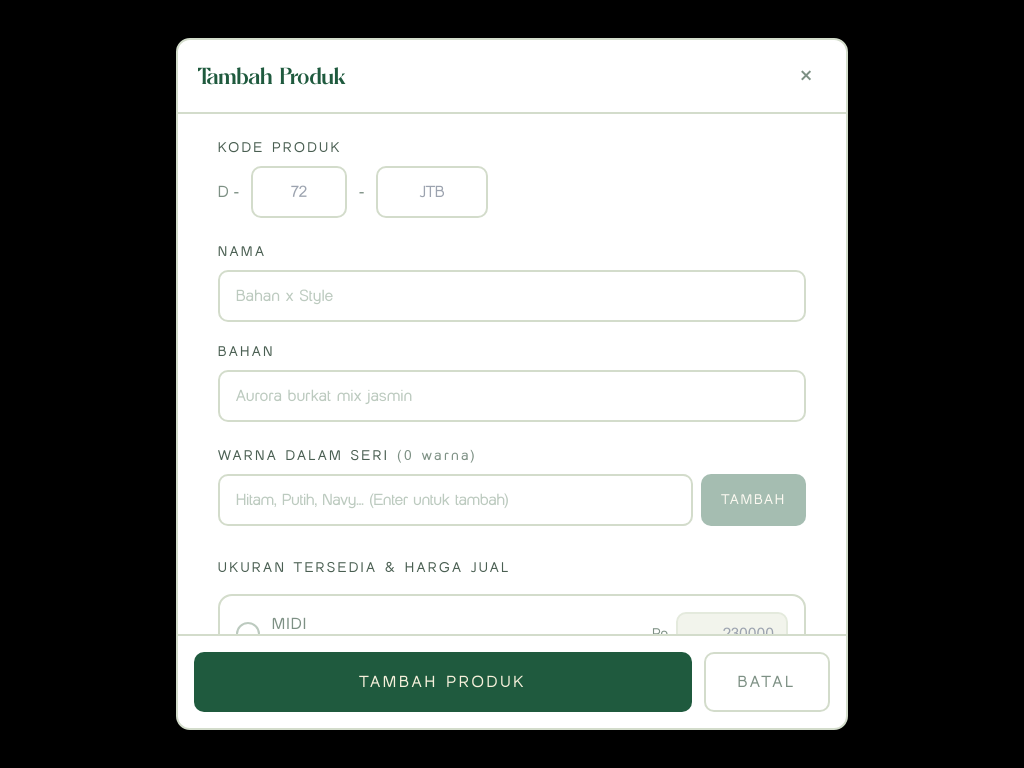
Test case: ProductForm › kode produk › menampilkan generatedKode saat kodeAngka & kodeBahan diisi
In the field with placeholder "72": (299, 192) [251,166,347,218], type "07"
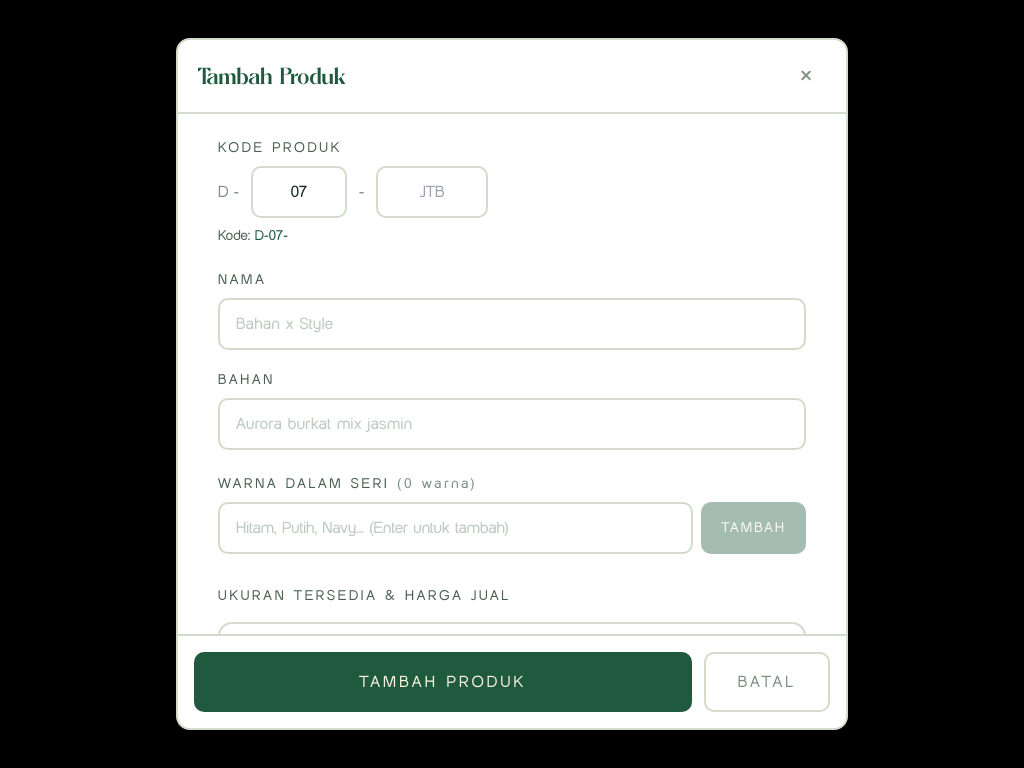
In the field with placeholder "JTB": (432, 192) [376,166,488,218], type "OSK"
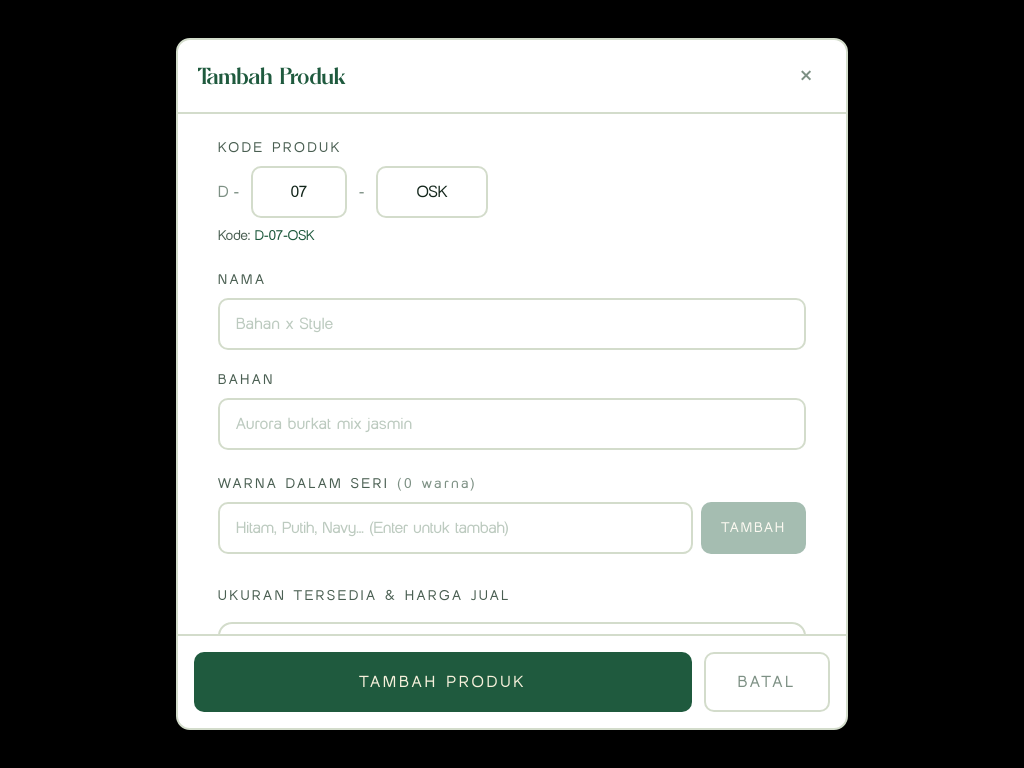
Expected: the text "D-07-OSK" is shown, [255,227,315,244]
